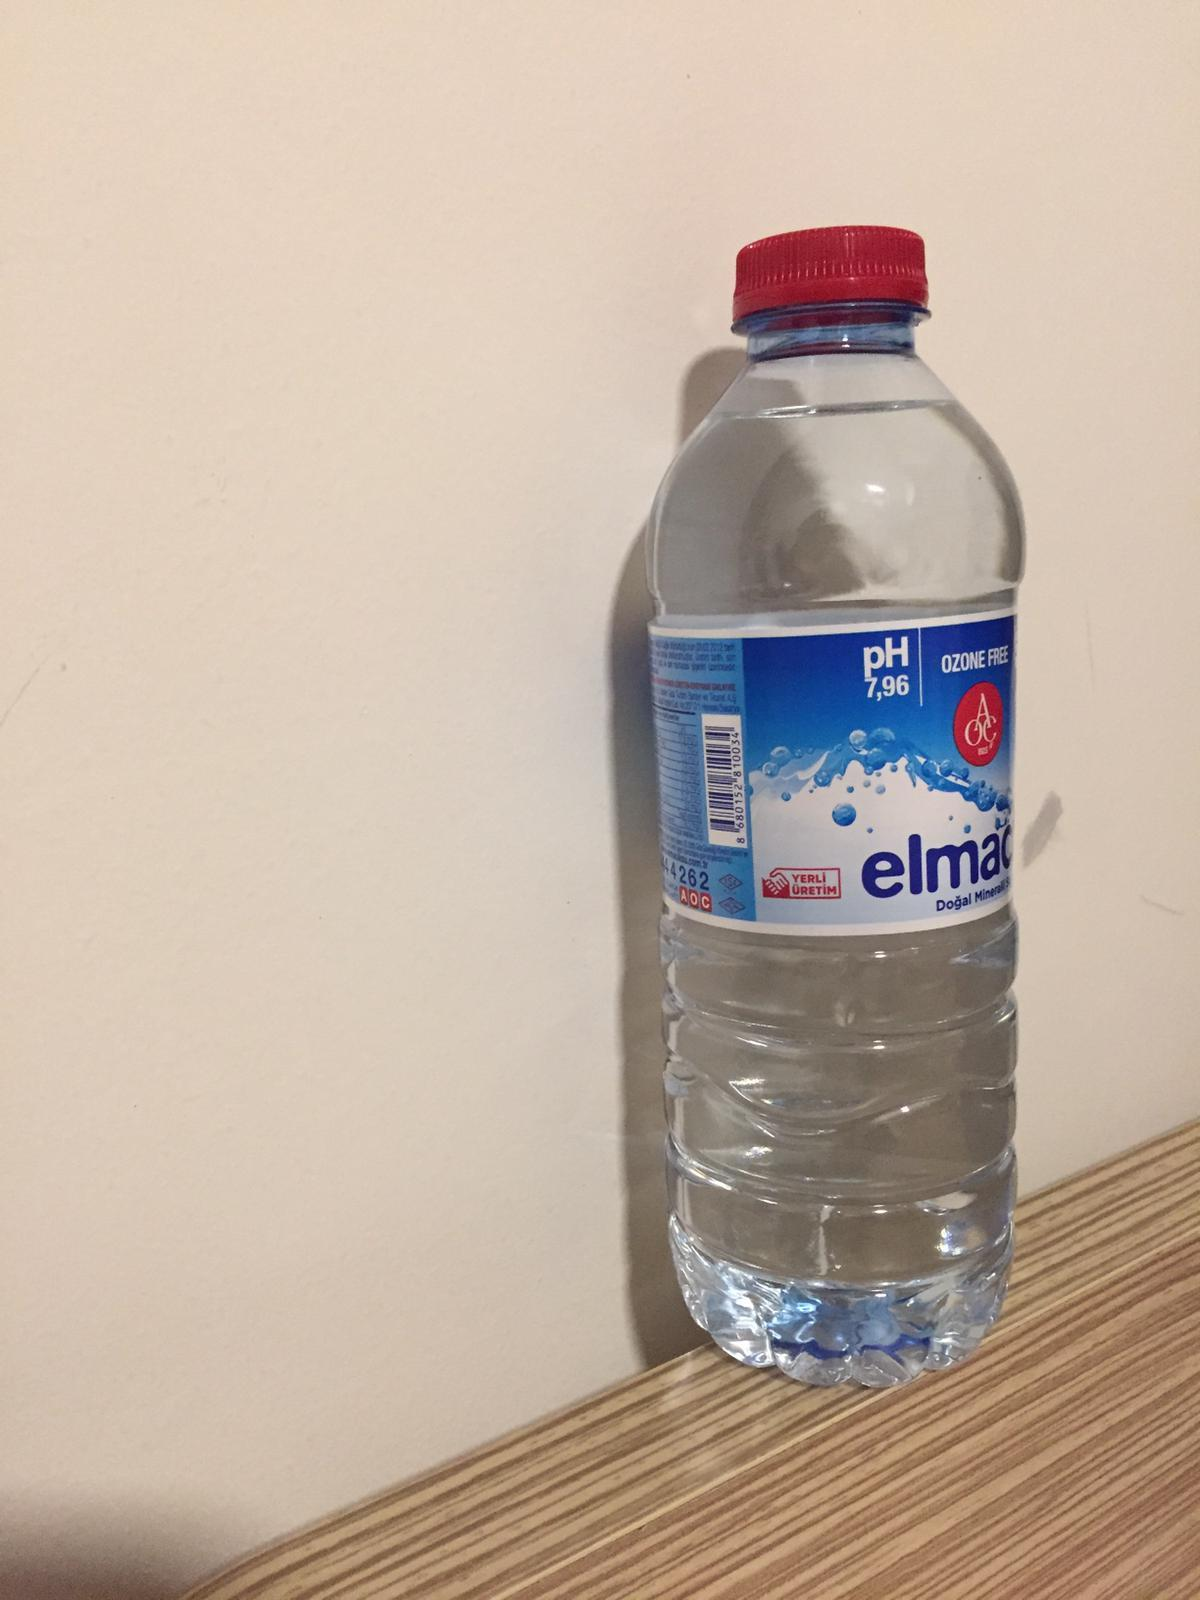bottle: (638, 218, 1029, 1380)
